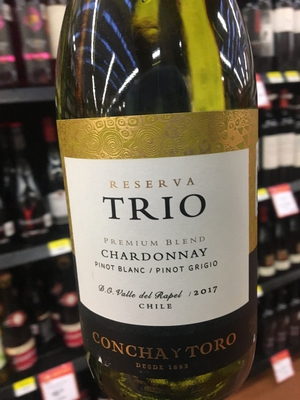trio chardonnay: (55, 11, 265, 400)
